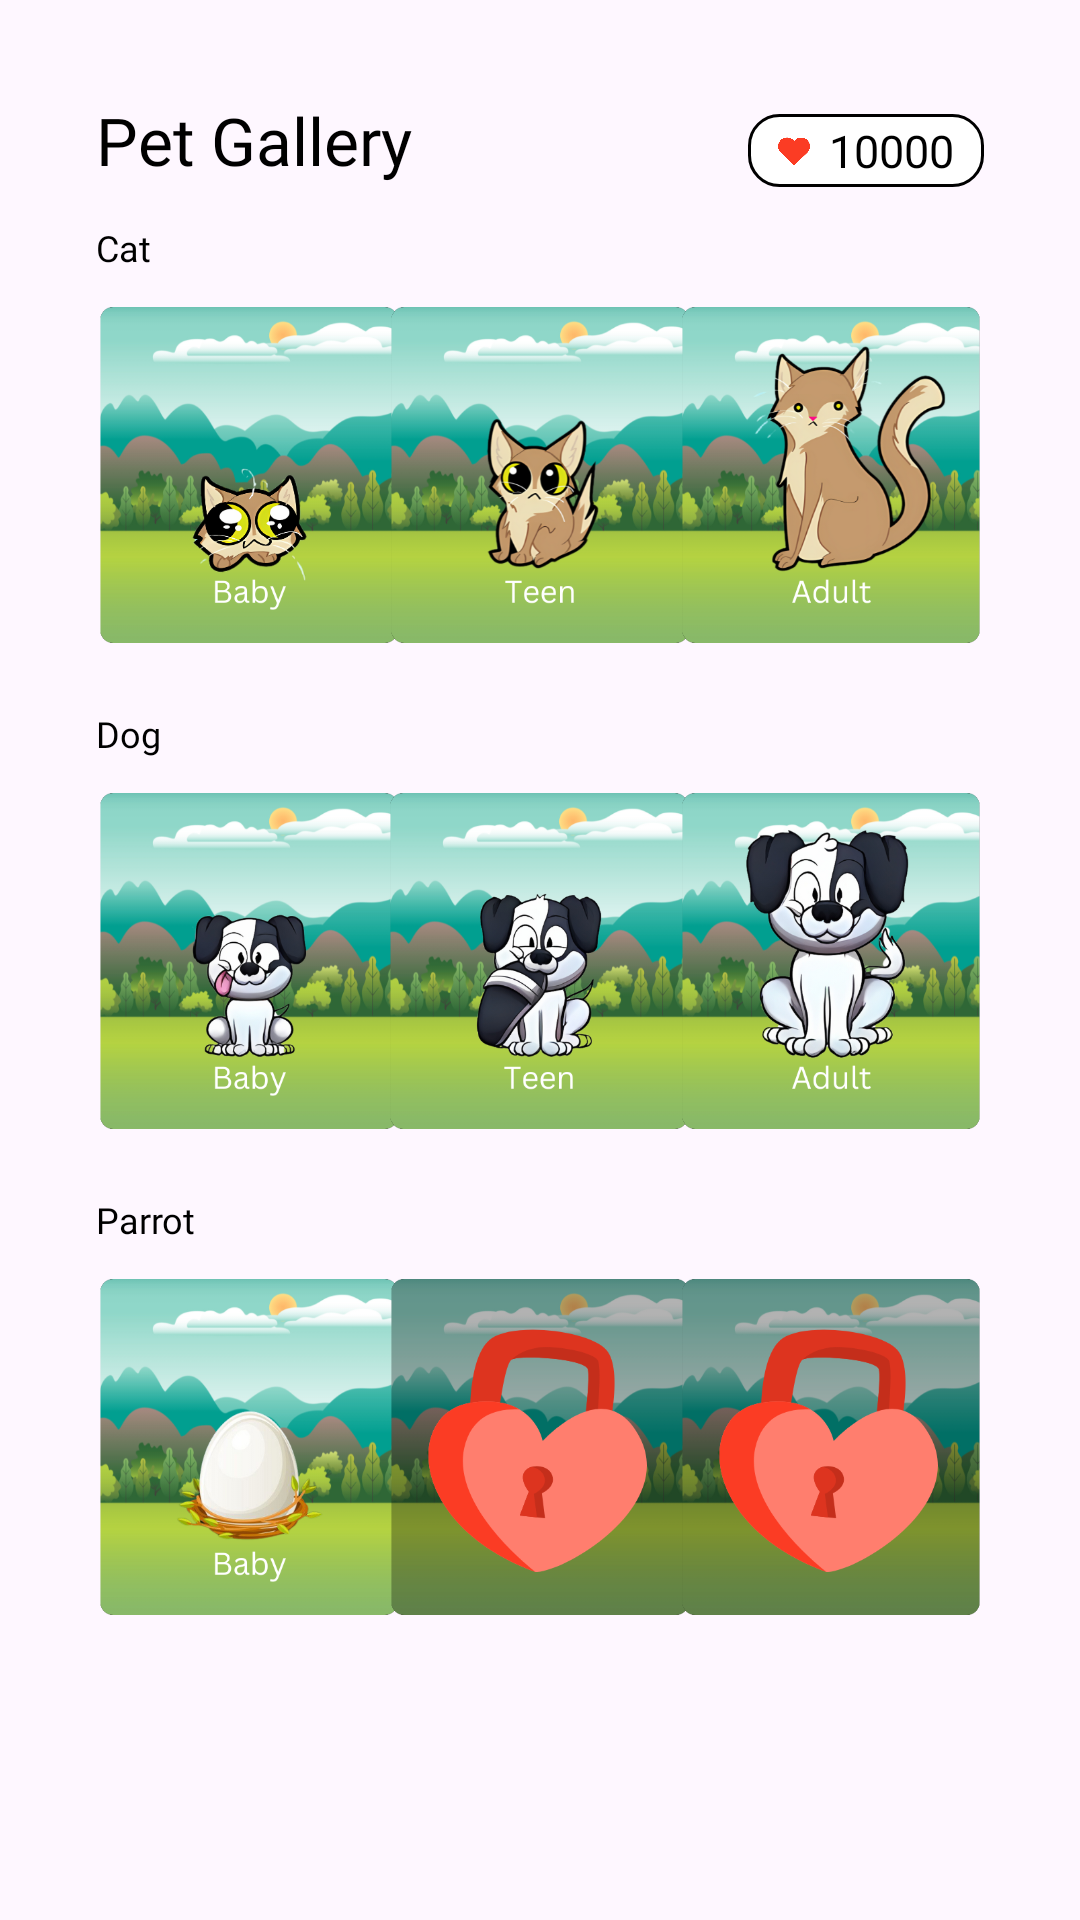

Icon bounding boxes for this 1080px x 1920px phone screenshot, format (x1, y1, x2, y2):
heart: (778, 137, 810, 165)
